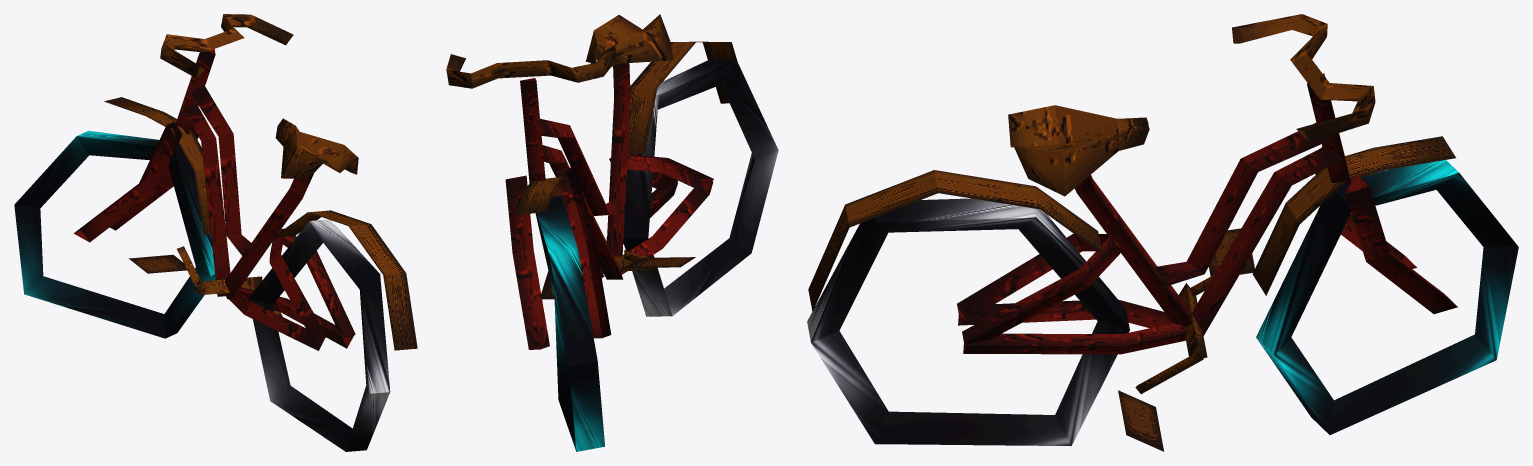
The model's file is Fahrrad_1099.glb.
The picture shows the model from 3 angles, left to right: view 1: azimuth 30°, elevation 25°; view 2: azimuth 150°, elevation 25°; view 3: azimuth 270°, elevation 25°; orthographic projection. The views are drawn at different scales.
Parts seen in each view (by area): view 1: pTorusShape1, pTorusShape2, pPlaneShape19, pPlaneShape17, pCylinderShape20, pCylinderShape17, pCylinderShape21, pCylinderShape18, pCylinderShape22, pPlaneShape18, pCylinderShape26, pCylinderShape25 (+6 smaller); view 2: pTorusShape2, pTorusShape1, pCylinderShape16, pCylinderShape17, pPlaneShape19, pCylinderShape22, pPlaneShape17, pCylinderShape18, pCylinderShape21, pCylinderShape19, pCylinderShape24, pCylinderShape26 (+5 smaller); view 3: pTorusShape2, pTorusShape1, pPlaneShape17, pPlaneShape19, pPlaneShape18, pCylinderShape20, pCylinderShape18, pCylinderShape21, pCylinderShape23, pCylinderShape16, pCylinderShape25, pCylinderShape22 (+6 smaller).
Boxes of the visible parts, x1=… form: pTorusShape1: x1=14, y1=130, x2=215, y2=338; pTorusShape2: x1=248, y1=219, x2=390, y2=451; pPlaneShape19: x1=273, y1=210, x2=417, y2=350; pPlaneShape17: x1=275, y1=118, x2=358, y2=178; pCylinderShape20: x1=182, y1=106, x2=230, y2=296; pCylinderShape17: x1=74, y1=122, x2=182, y2=242; pCylinderShape21: x1=191, y1=86, x2=251, y2=257; pCylinderShape18: x1=160, y1=14, x2=293, y2=78; pCylinderShape22: x1=224, y1=173, x2=313, y2=297; pPlaneShape18: x1=104, y1=97, x2=210, y2=235; pCylinderShape26: x1=269, y1=231, x2=326, y2=345; pCylinderShape25: x1=273, y1=228, x2=355, y2=337; pTorusShape2: x1=623, y1=59, x2=778, y2=316; pTorusShape1: x1=535, y1=196, x2=604, y2=451; pCylinderShape16: x1=505, y1=175, x2=549, y2=349; pCylinderShape17: x1=556, y1=166, x2=611, y2=338; pPlaneShape19: x1=627, y1=41, x2=737, y2=153; pCylinderShape22: x1=607, y1=63, x2=630, y2=256; pPlaneShape17: x1=586, y1=14, x2=673, y2=66; pCylinderShape18: x1=446, y1=44, x2=616, y2=88; pCylinderShape21: x1=540, y1=118, x2=625, y2=215; pCylinderShape19: x1=520, y1=78, x2=545, y2=182; pCylinderShape24: x1=620, y1=181, x2=713, y2=274; pCylinderShape26: x1=627, y1=154, x2=713, y2=193; pTorusShape2: x1=807, y1=198, x2=1129, y2=446; pTorusShape1: x1=1256, y1=160, x2=1518, y2=434; pPlaneShape17: x1=1008, y1=105, x2=1149, y2=196; pPlaneShape19: x1=808, y1=170, x2=1102, y2=311; pPlaneShape18: x1=1252, y1=136, x2=1455, y2=295; pCylinderShape20: x1=1190, y1=147, x2=1342, y2=335; pCylinderShape18: x1=1232, y1=14, x2=1375, y2=141; pCylinderShape21: x1=1155, y1=122, x2=1330, y2=287; pCylinderShape23: x1=963, y1=323, x2=1187, y2=354; pCylinderShape16: x1=1345, y1=174, x2=1457, y2=313; pCylinderShape25: x1=962, y1=237, x2=1122, y2=344; pCylinderShape22: x1=1075, y1=175, x2=1191, y2=326.
Size of the model in its own units: 0.1306 by 0.1836 by 0.2921.
Materials: 21 (21 with a texture image).
